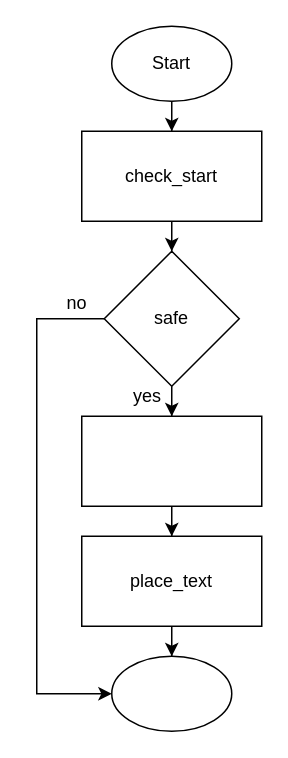
The diagram is 288 pixels wide and 758 high, and some of its shapes have lost their labels. Here are the shapes that lost their labels. From the top down, the box of each, then its label:
(80, 415, 262, 506): color_text
(110, 655, 232, 731): Stop
